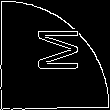M_W: (29, 32, 81, 78)
